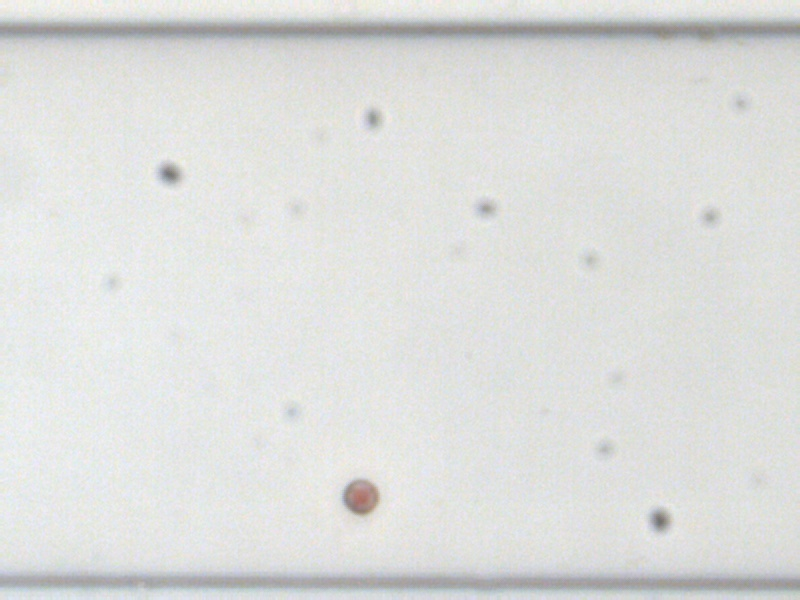Porphyridium: (341, 478, 378, 514)
